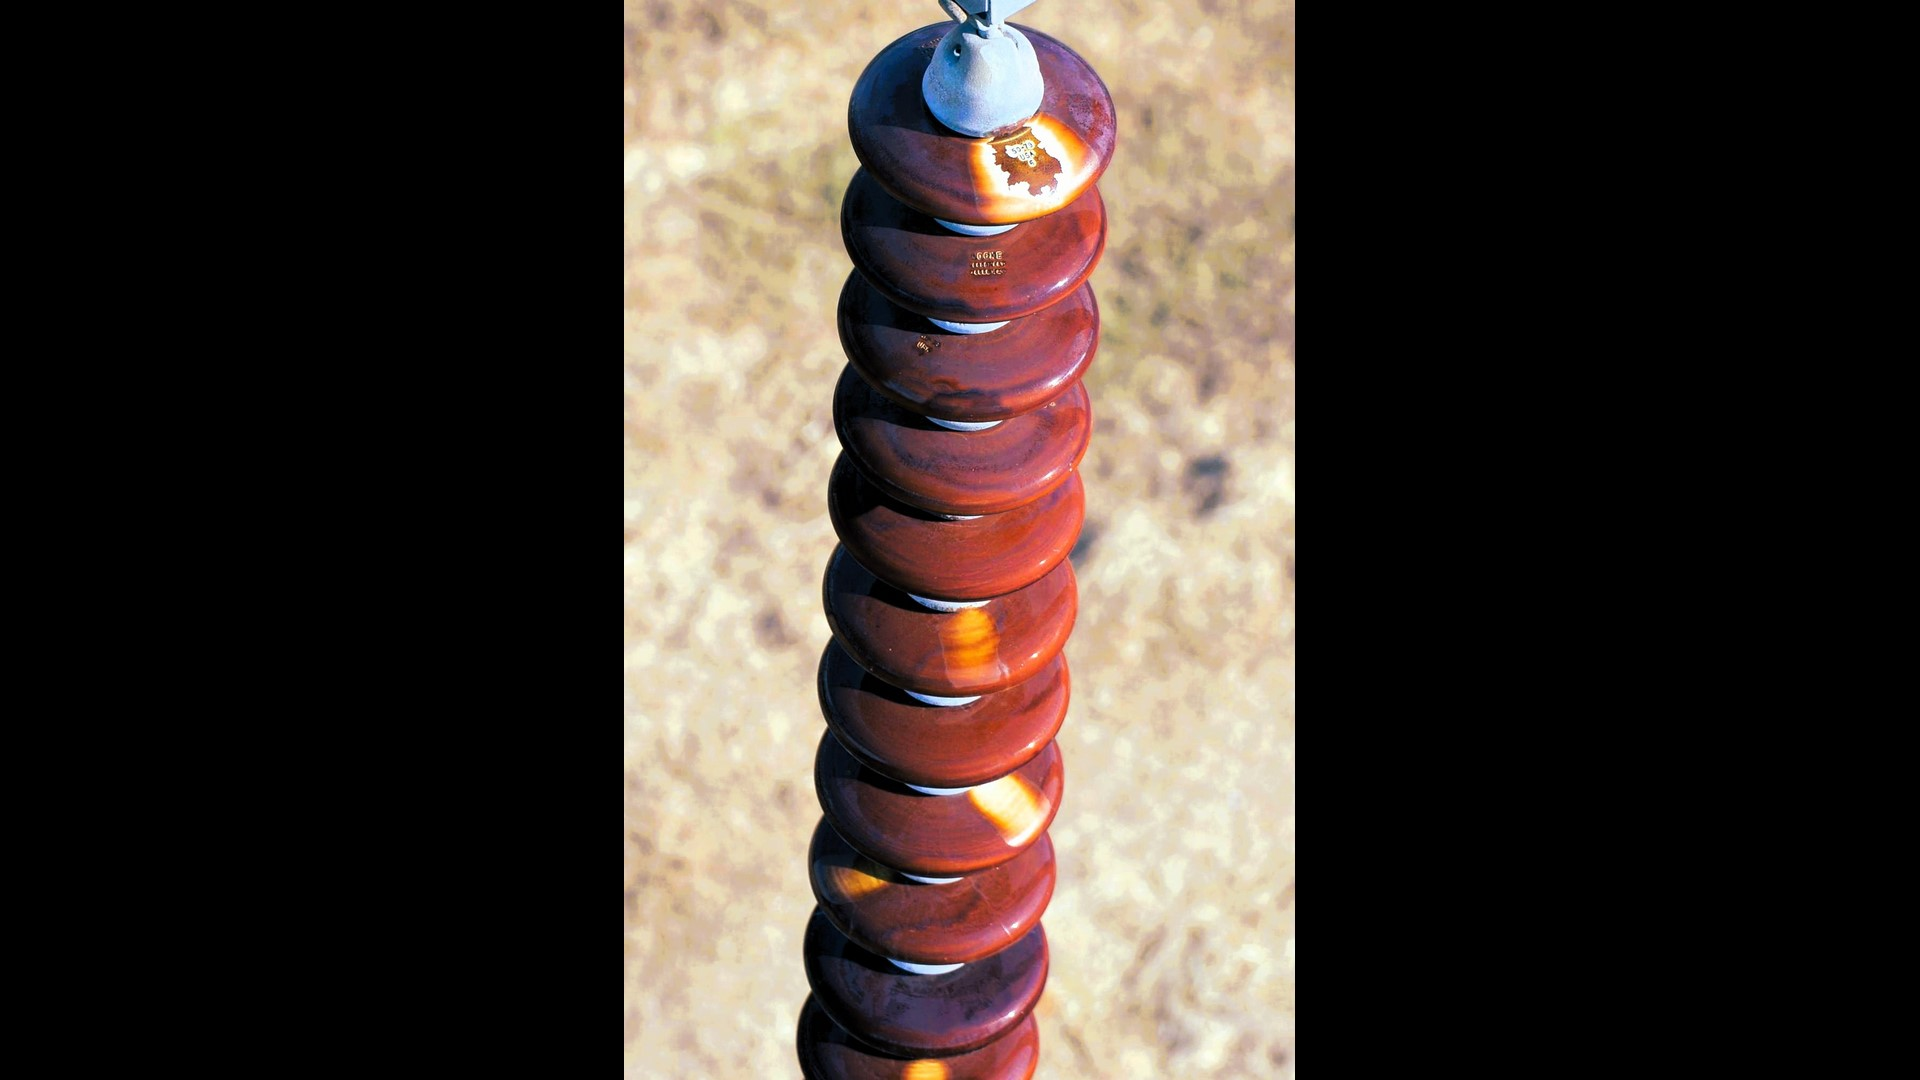Insulator flashover: (843, 21, 1124, 235), (808, 556, 1091, 699), (807, 746, 1076, 893)
